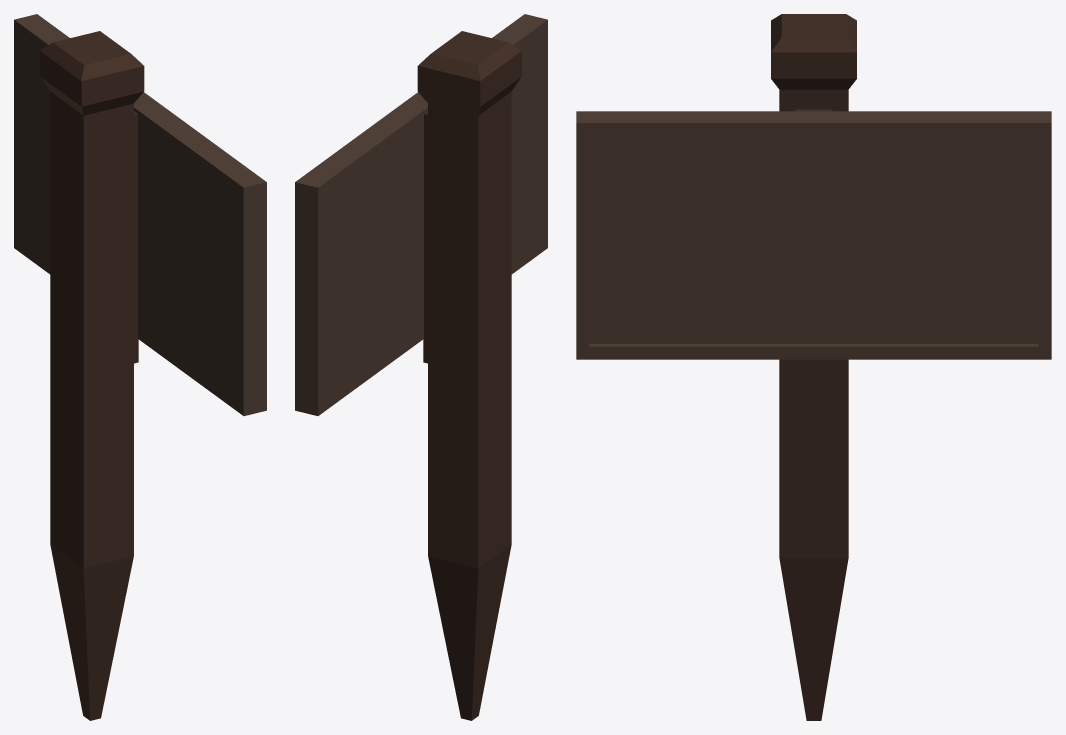
The model's file is Jukebox sign.fbx.
The picture shows the model from 3 angles, left to right: view 1: azimuth 30°, elevation 25°; view 2: azimuth 150°, elevation 25°; view 3: azimuth 270°, elevation 25°; orthographic projection. The views are drawn at different scales.
Visible parts, largest first — view 1: Sign post.003, Sign.003; view 2: Sign post.003, Sign.003; view 3: Sign.003, Sign post.003.
Part boxes in pixels (x1,y1,x2,y2): Sign post.003: [40, 31, 144, 720]; Sign.003: [14, 14, 266, 415]; Sign post.003: [417, 31, 521, 720]; Sign.003: [295, 14, 547, 415]; Sign.003: [576, 111, 1051, 359]; Sign post.003: [771, 14, 856, 720].
Bounding box in the file's own units: 89.17 × 624 × 389.
